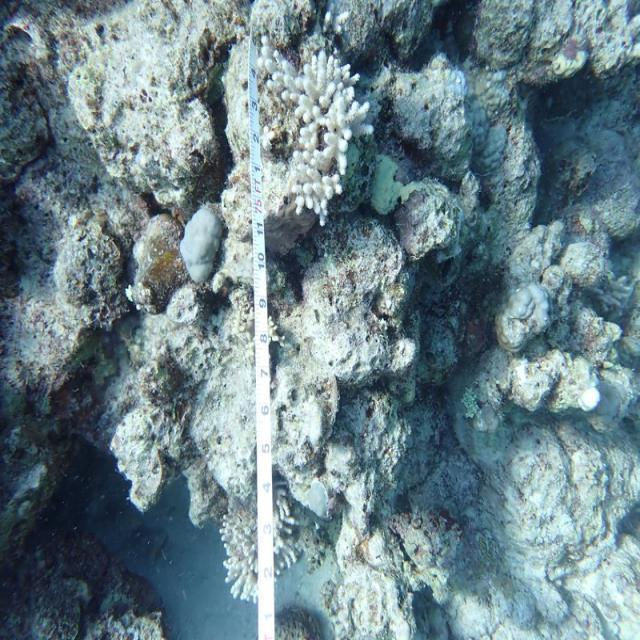Bleached Coral: (245, 32, 373, 234), (204, 491, 307, 598), (171, 181, 231, 308)
